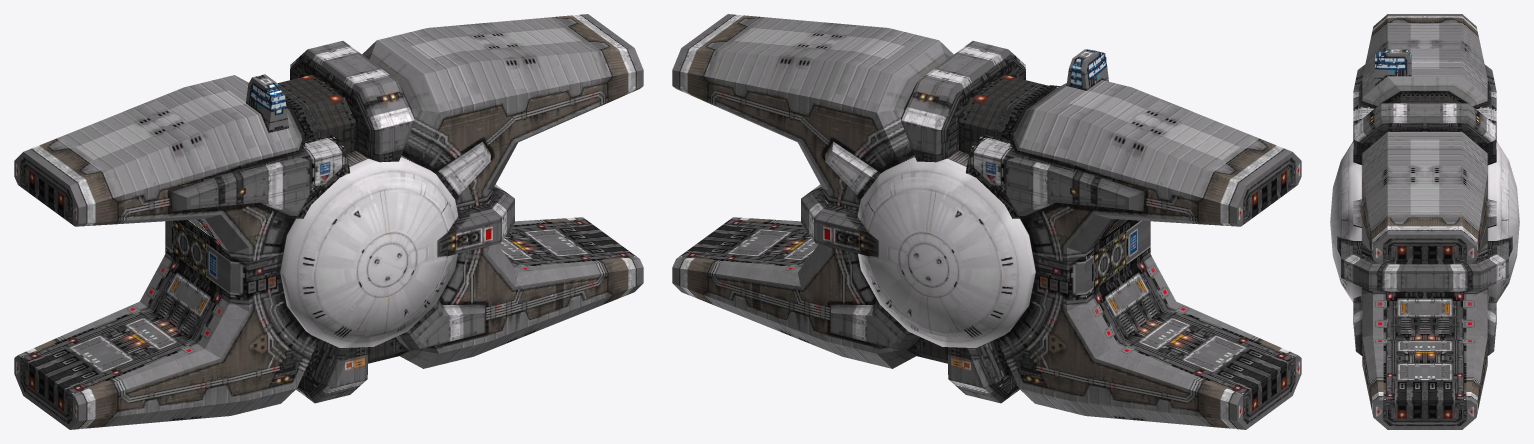
3 renders of one model, left to right at view 1: azimuth 30°, elevation 25°; view 2: azimuth 150°, elevation 25°; view 3: azimuth 270°, elevation 25°, orthographic. The views are drawn at different scales.
Visible parts, largest first — view 1: hw2Shader; view 2: hw2Shader; view 3: hw2Shader.
Part boxes in pixels (box(x1,y1,x2,y2)): hw2Shader: box(14, 14, 643, 429); hw2Shader: box(672, 14, 1301, 429); hw2Shader: box(1330, 14, 1519, 429).
Bounding box in the file's own units: 80.39 × 44.25 × 29.22.
